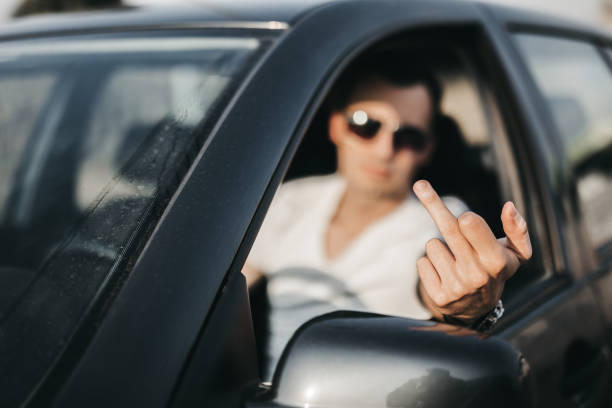insulting_gesture: (409, 178, 534, 317)
